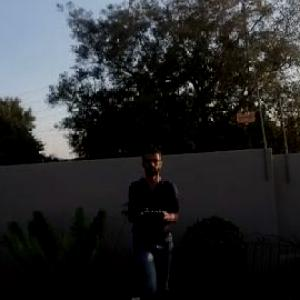follow: (121, 143, 187, 299)
